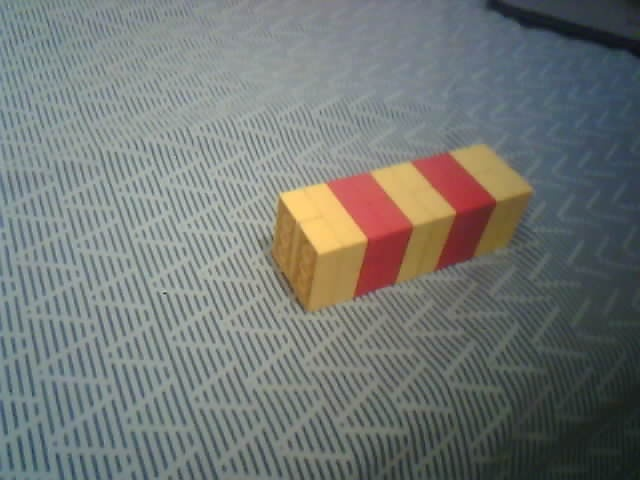lego: (270, 141, 536, 316)
